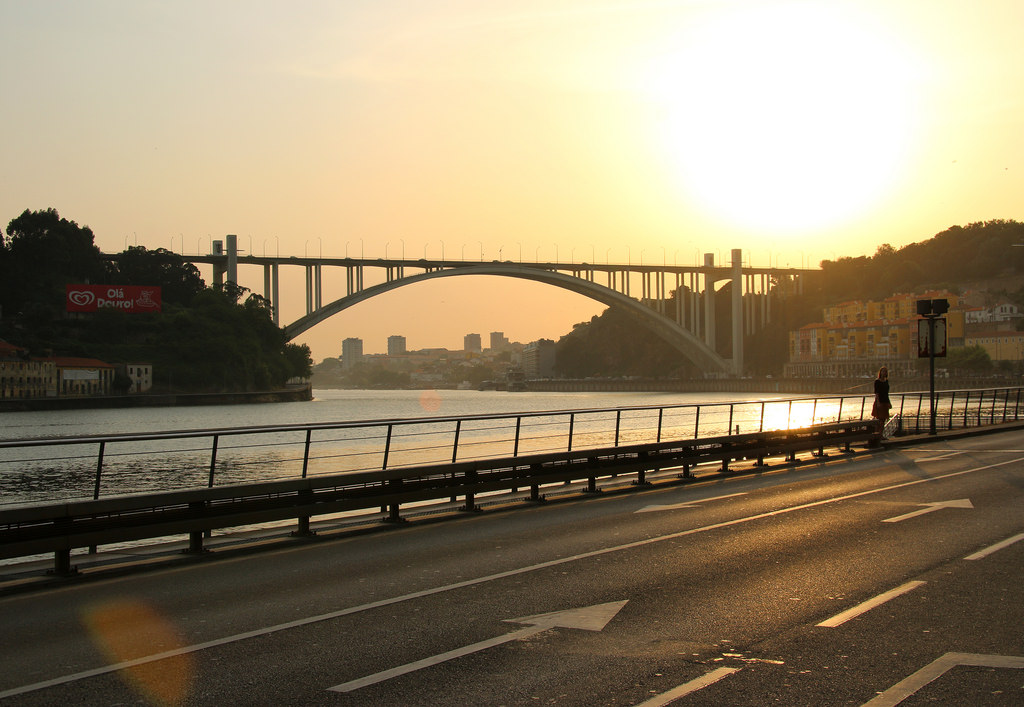arrabida: (160, 233, 821, 380)
